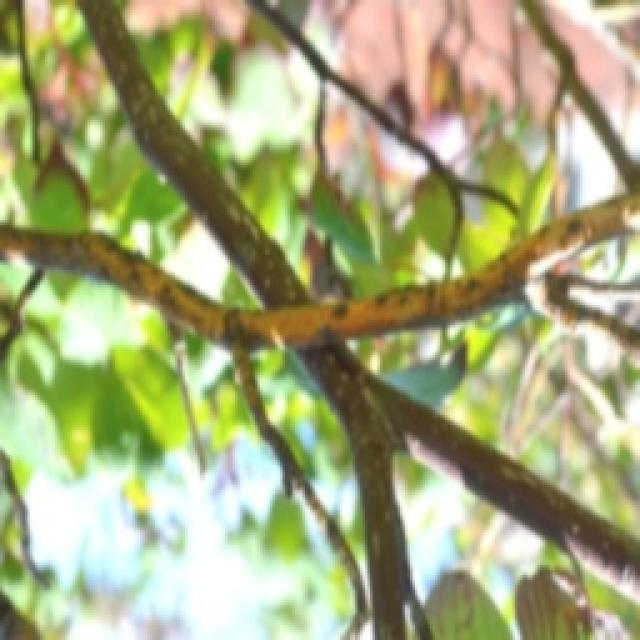Golden_canker: (0, 102, 640, 460)
